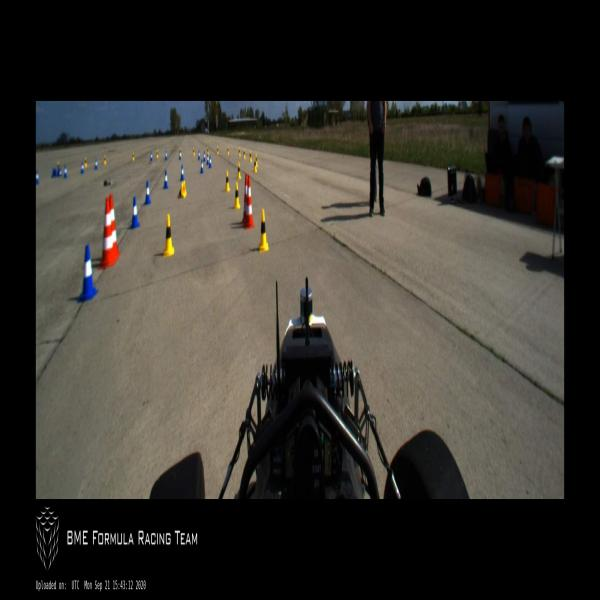blue_cone: (77, 244, 99, 303), (130, 196, 139, 228), (144, 181, 150, 206), (163, 170, 168, 189), (180, 164, 184, 182), (208, 156, 212, 169), (51, 169, 56, 179), (200, 159, 203, 174), (64, 164, 67, 179), (94, 160, 98, 170), (57, 168, 62, 176), (36, 172, 39, 184), (81, 162, 84, 173), (207, 154, 209, 166), (150, 152, 152, 161), (198, 152, 200, 160), (179, 152, 181, 160), (165, 152, 167, 160), (204, 151, 205, 162)
large_orange_cone: (97, 198, 116, 270), (107, 193, 121, 257), (244, 174, 255, 230), (241, 174, 248, 227)
yellow_cone: (163, 214, 174, 258), (258, 209, 268, 251), (233, 182, 240, 209), (177, 182, 187, 199), (225, 170, 230, 192), (237, 161, 241, 179), (56, 160, 60, 174), (254, 157, 256, 172), (255, 154, 257, 168), (84, 157, 86, 168), (243, 149, 245, 160), (238, 147, 240, 157), (132, 152, 134, 161), (156, 150, 158, 159), (193, 147, 195, 156), (216, 146, 218, 155), (104, 156, 106, 164), (227, 146, 229, 154), (250, 150, 251, 162), (207, 147, 208, 154)
